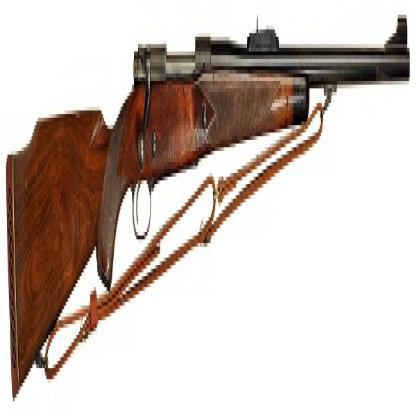Guns: (4, 0, 411, 413)
